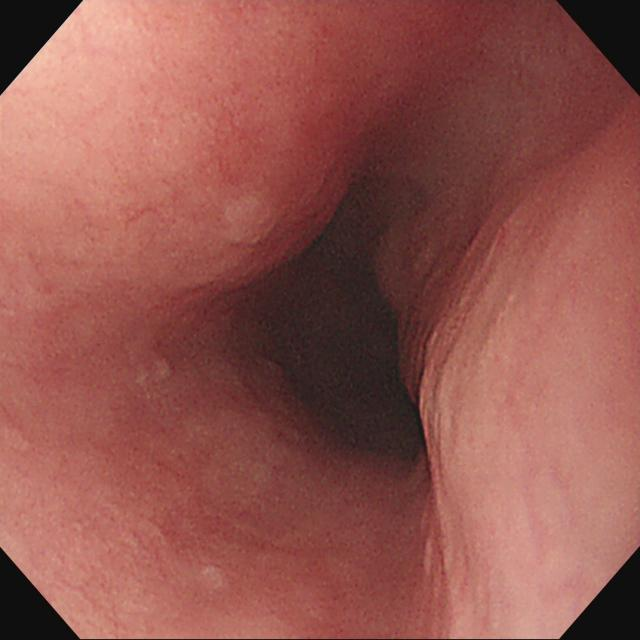E: (242, 166, 436, 467)
